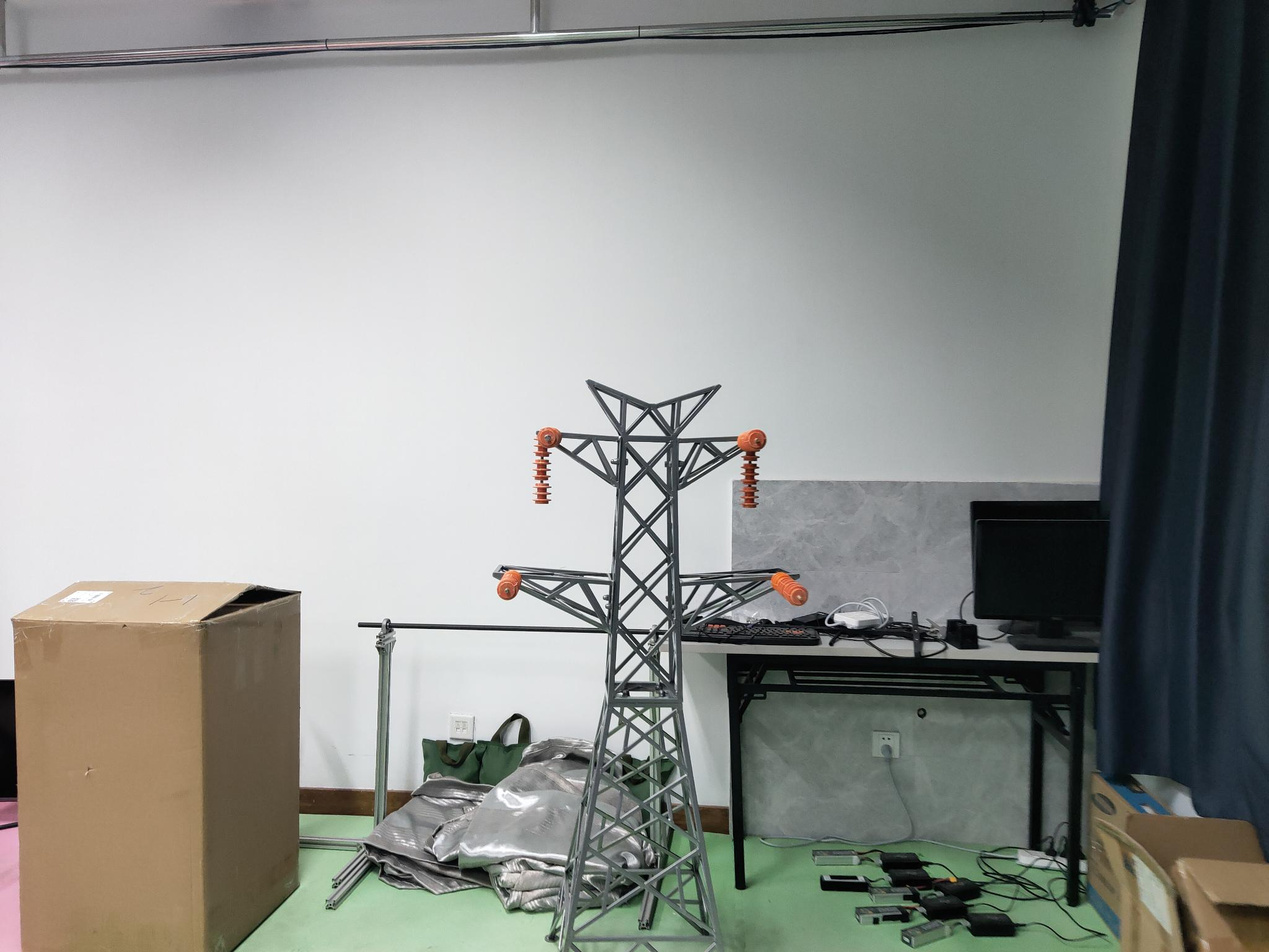tower: (495, 381, 788, 952)
